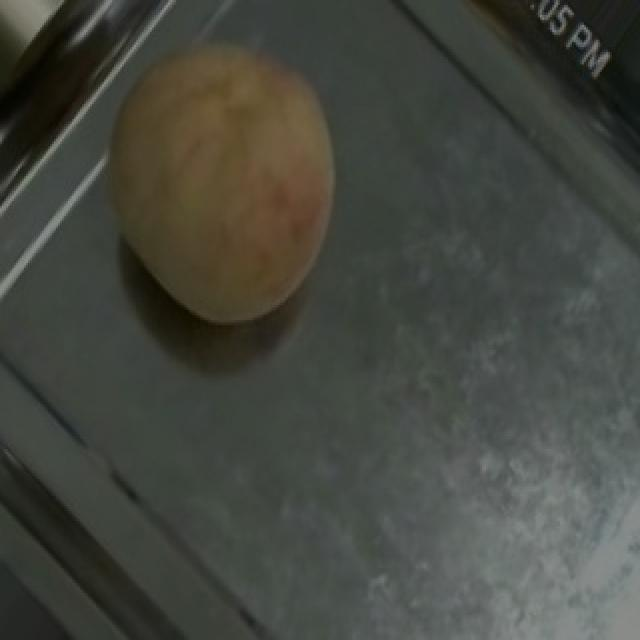Fruit: (50, 0, 392, 370)
